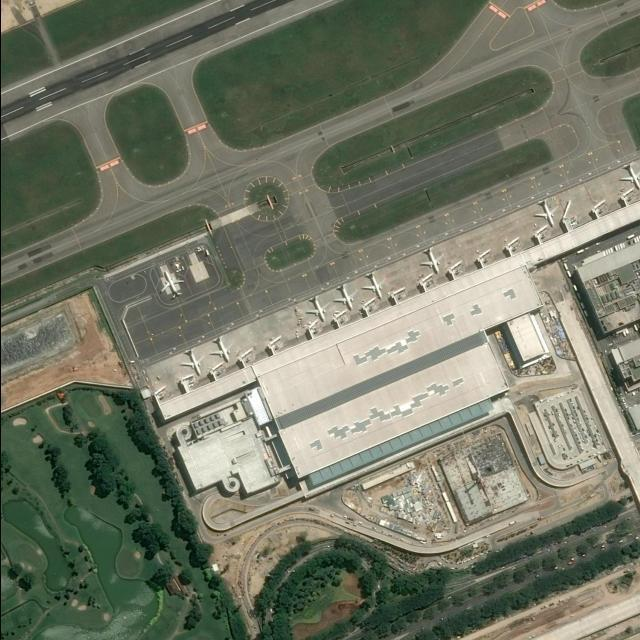Aircraft: (535, 198, 560, 228), (420, 247, 446, 275), (305, 295, 330, 323), (362, 272, 387, 300), (161, 271, 185, 299), (181, 348, 205, 376), (210, 335, 234, 363), (334, 285, 359, 311), (620, 162, 640, 190)
